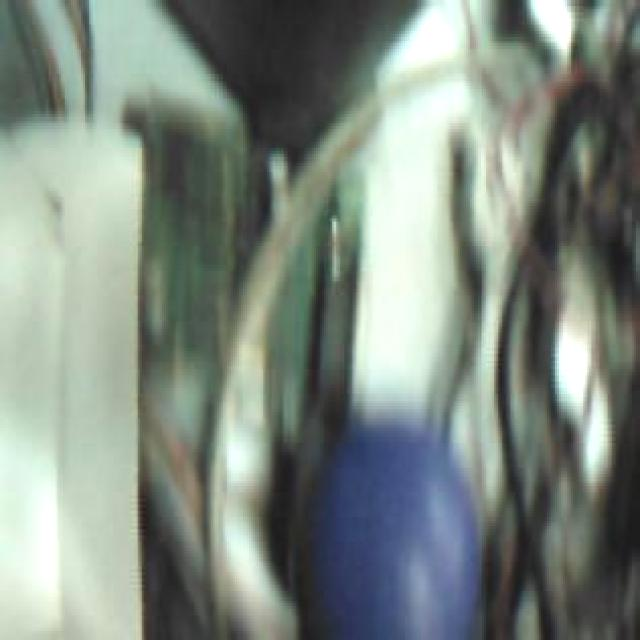BallPurple: (298, 419, 479, 640)
